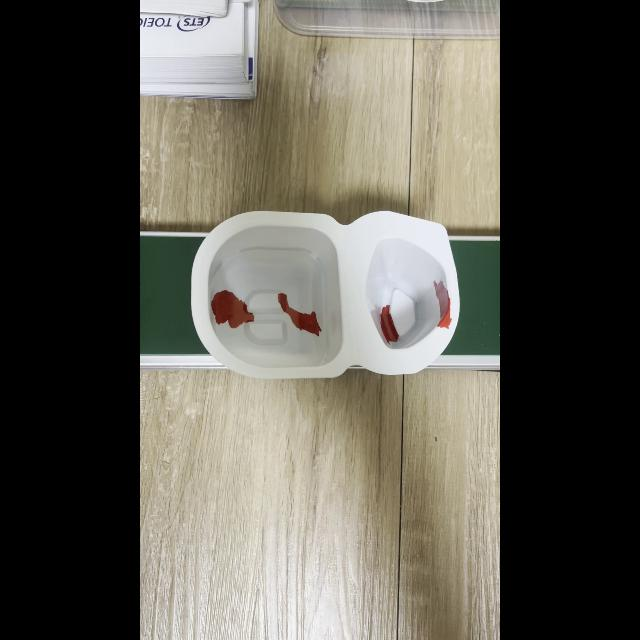dirty: (195, 230, 457, 366)
